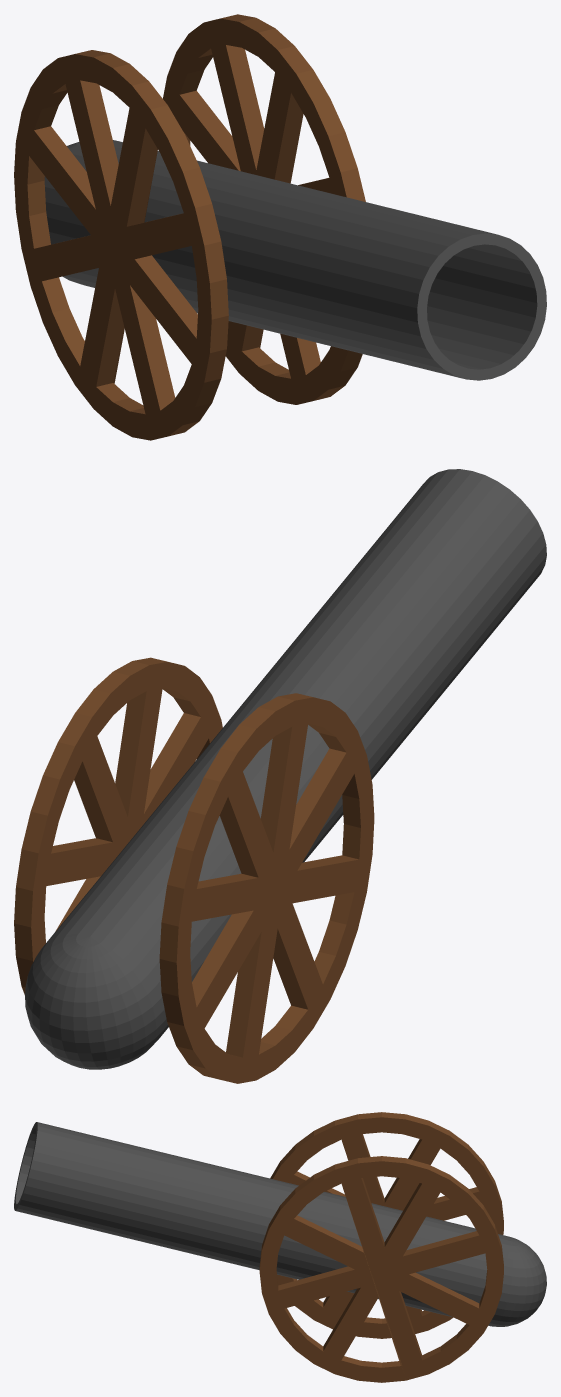
Rendered from cannon.glb.
3 renders of one model, top to bottom at view 1: azimuth 30°, elevation 25°; view 2: azimuth 150°, elevation 25°; view 3: azimuth 270°, elevation 25°, orthographic. The views are drawn at different scales.
Visible parts, largest first — view 1: Hull, Wheel 2, Wheel; view 2: Hull, Wheel 2, Wheel; view 3: Hull, Wheel, Wheel 2.
Part boxes in pixels (x1,y1,x2,y2): Hull: [44, 140, 546, 380]; Wheel 2: [14, 50, 228, 440]; Wheel: [163, 14, 365, 404]; Hull: [25, 469, 546, 1069]; Wheel 2: [159, 693, 374, 1083]; Wheel: [14, 657, 222, 994]; Hull: [14, 1122, 546, 1326]; Wheel: [259, 1156, 503, 1382]; Wheel 2: [270, 1112, 503, 1338].
Bounding box in the file's own units: 1.9 × 4.19 × 8.72.
